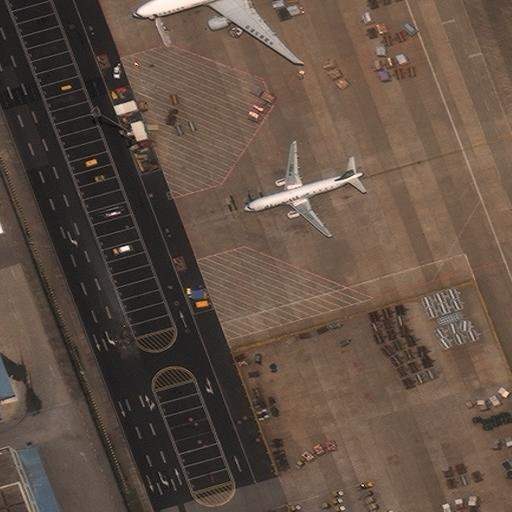Large Civil Transport: (133, 0, 316, 64)
Medium Civil Transport: (243, 143, 363, 238)
